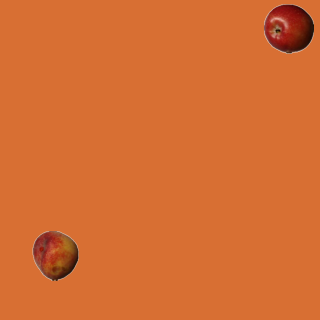Apple Braeburn: (263, 3, 313, 53)
Peach: (30, 230, 80, 280)
